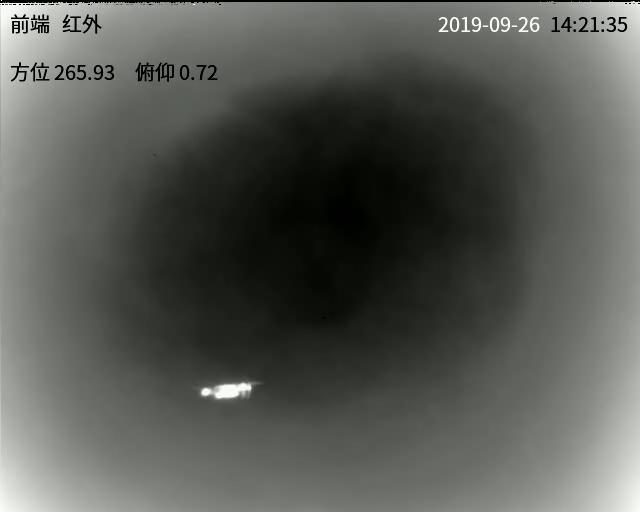uav: (195, 376, 264, 406)
